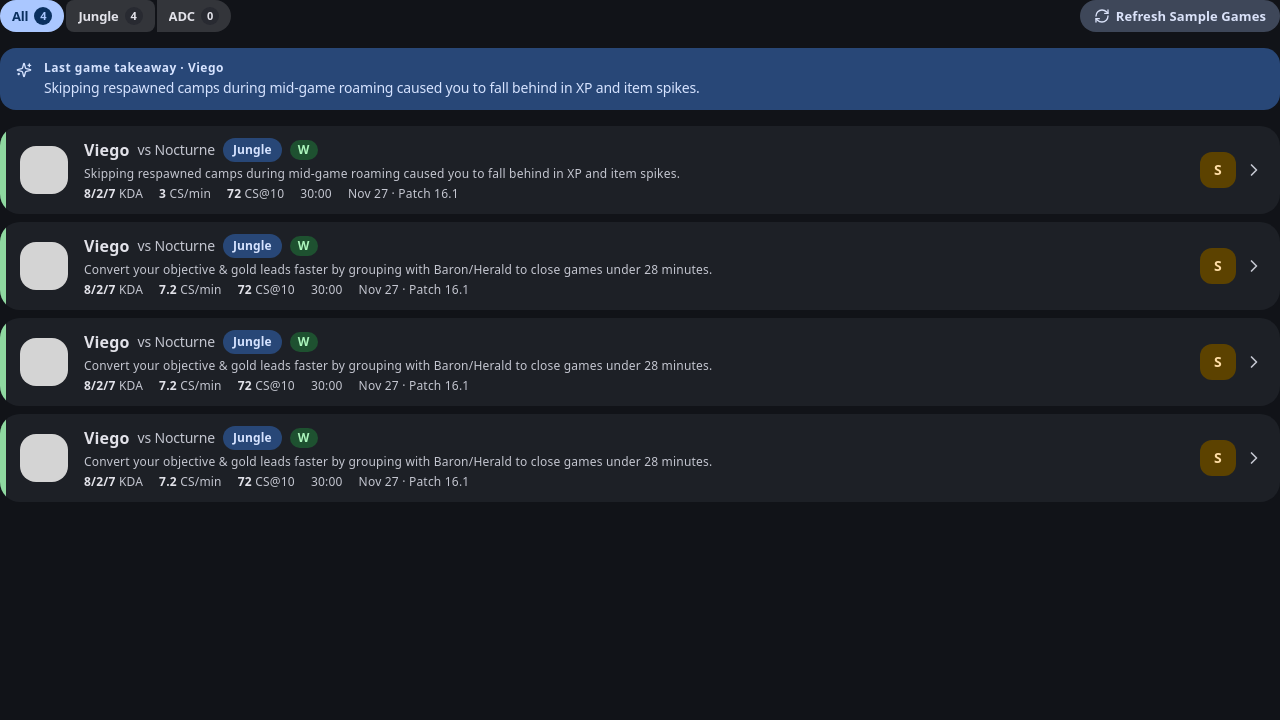
Test case: PostGameReviewView stacked match cards, ADC grading & role normalization › excludes the selected match from its personal EWM baseline comparison
The image size is (1280, 720).
Click the button with aria-label "Open Viego, vs Nocturne, Jungle, victory, 8/2/7": [640, 170] box [0,126,1279,214]
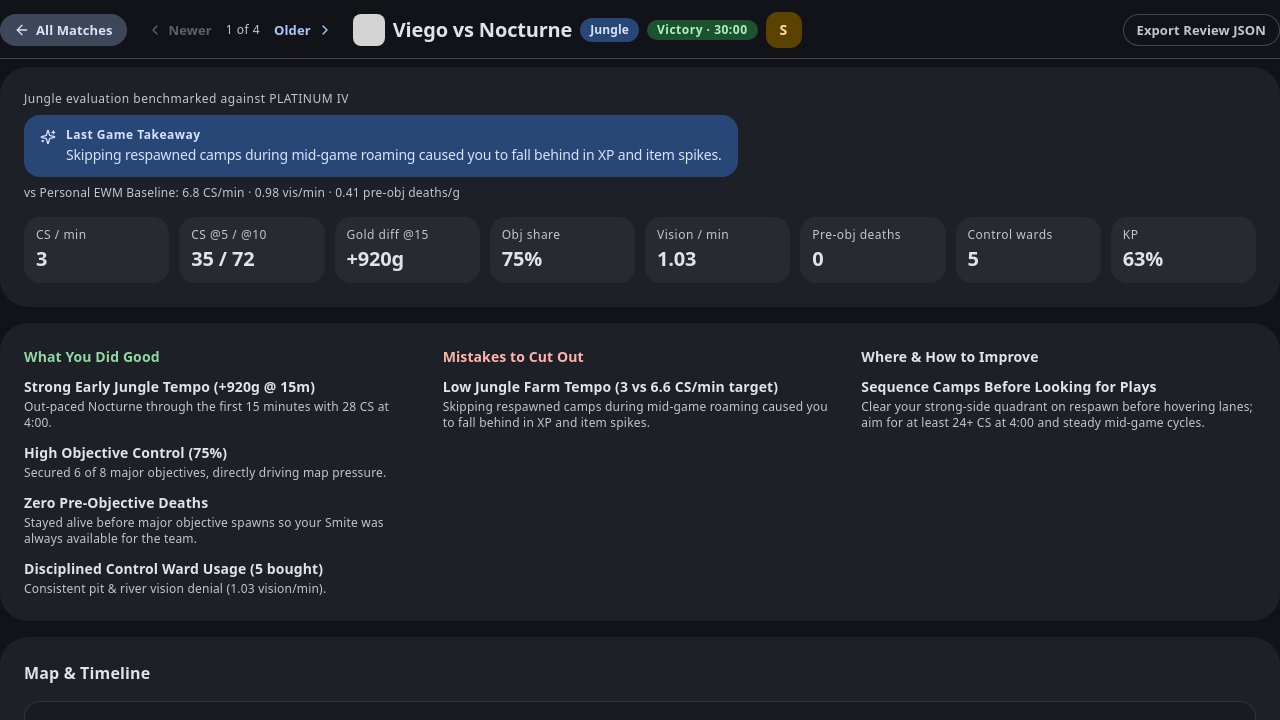
expect the text "vs Personal EWM Baseline:" shows "6.8 CS/min": met, box [24,184,460,201]
